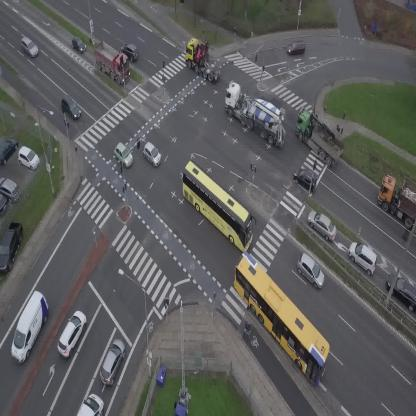bicycle: (243, 320, 252, 339)
bus: (215, 250, 344, 386), (168, 158, 267, 253)
car: (52, 308, 91, 359), (96, 337, 130, 387), (343, 238, 385, 277), (291, 251, 332, 290), (302, 206, 342, 244), (288, 163, 323, 195), (109, 141, 137, 170), (57, 94, 84, 122), (139, 141, 166, 167), (17, 34, 41, 59), (120, 39, 143, 63), (67, 34, 88, 56), (287, 40, 306, 55)
lorry: (213, 79, 300, 150), (2, 289, 56, 365), (286, 106, 351, 168), (85, 36, 139, 87), (178, 32, 223, 89), (378, 174, 416, 234), (77, 394, 104, 416)
